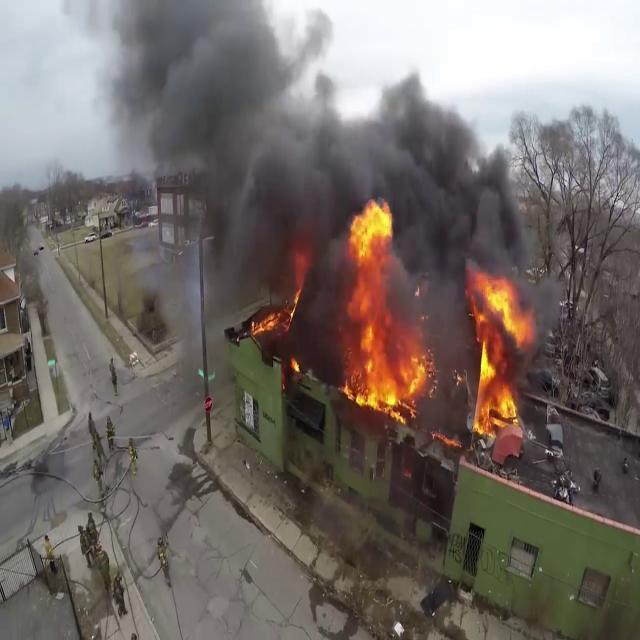Fire: (340, 196, 430, 421), (466, 272, 533, 431)
Smoke: (98, 0, 532, 292)
